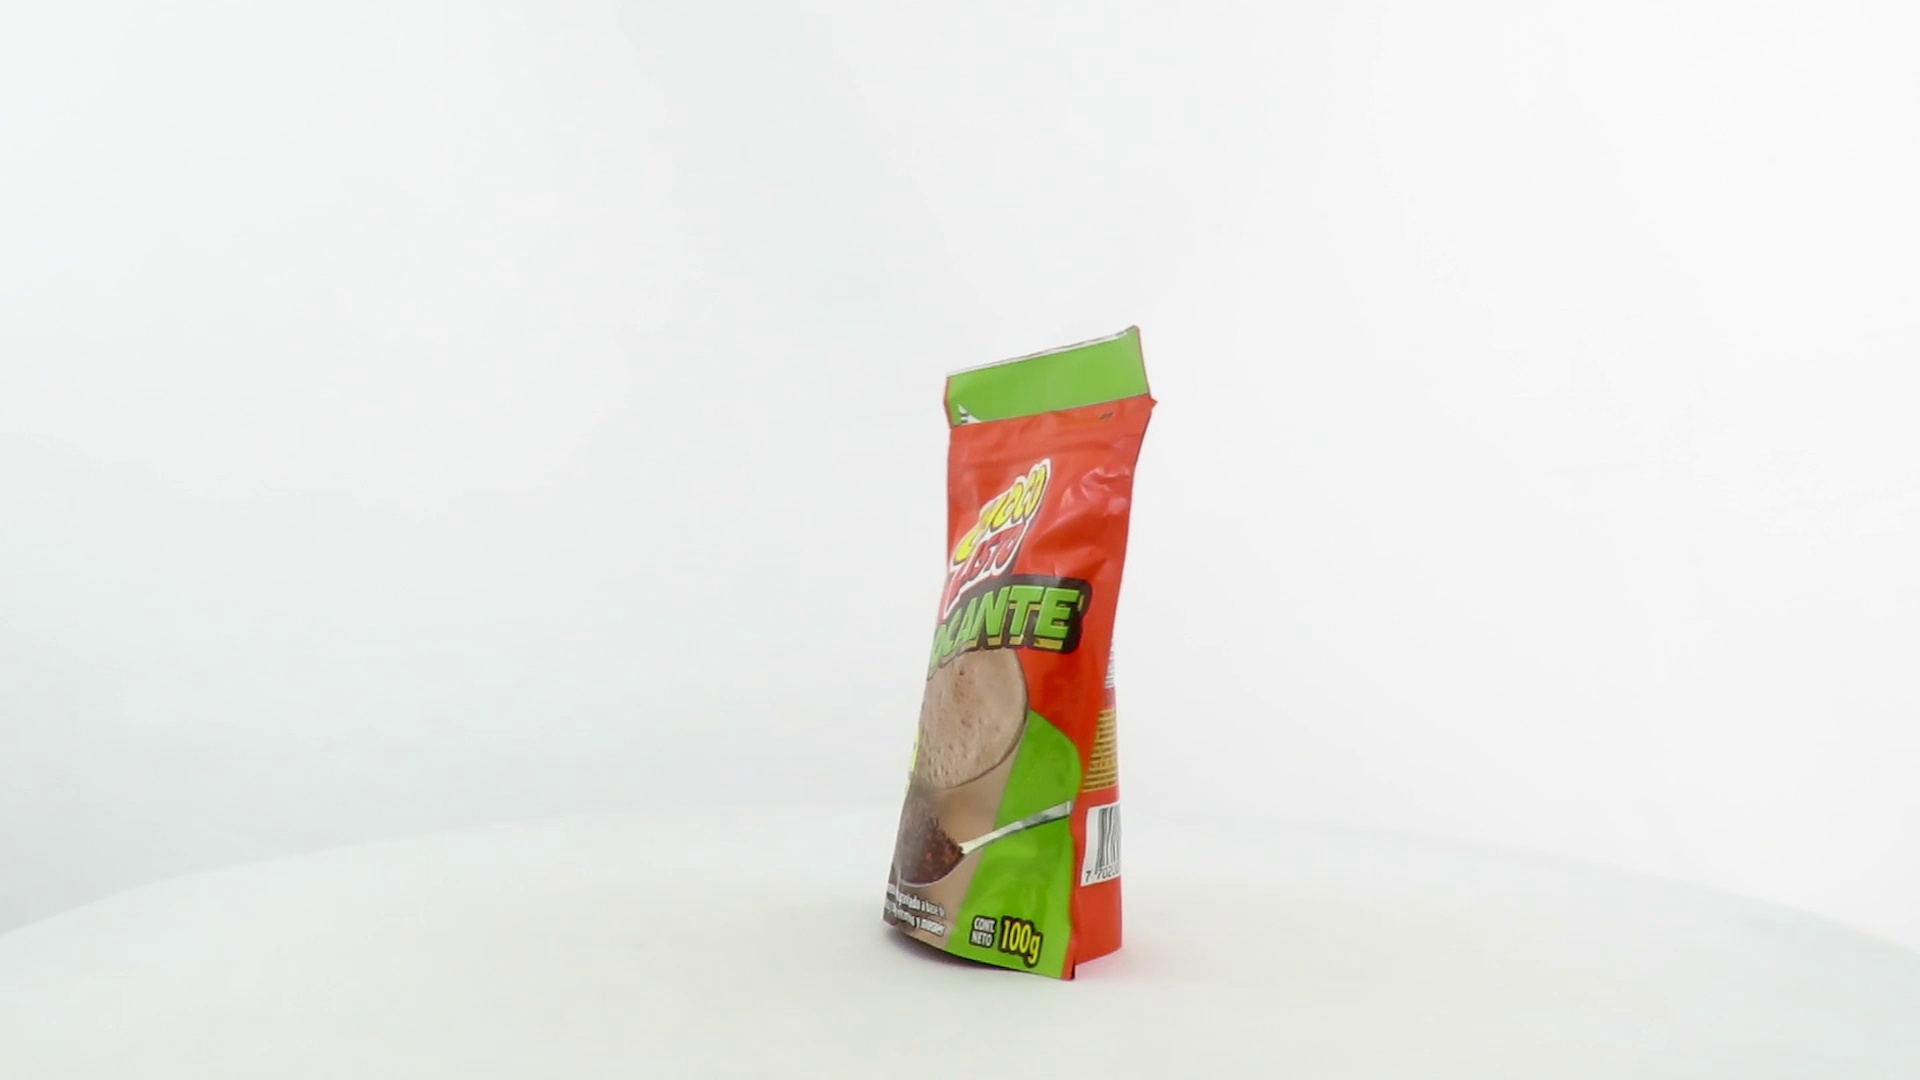COL0170102DYP10000: (878, 320, 1164, 988)
